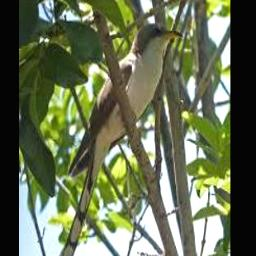Cuckoo: (60, 23, 183, 256)
